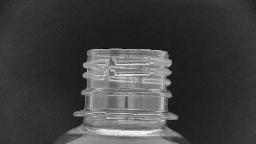No Cap: (67, 44, 185, 122)
